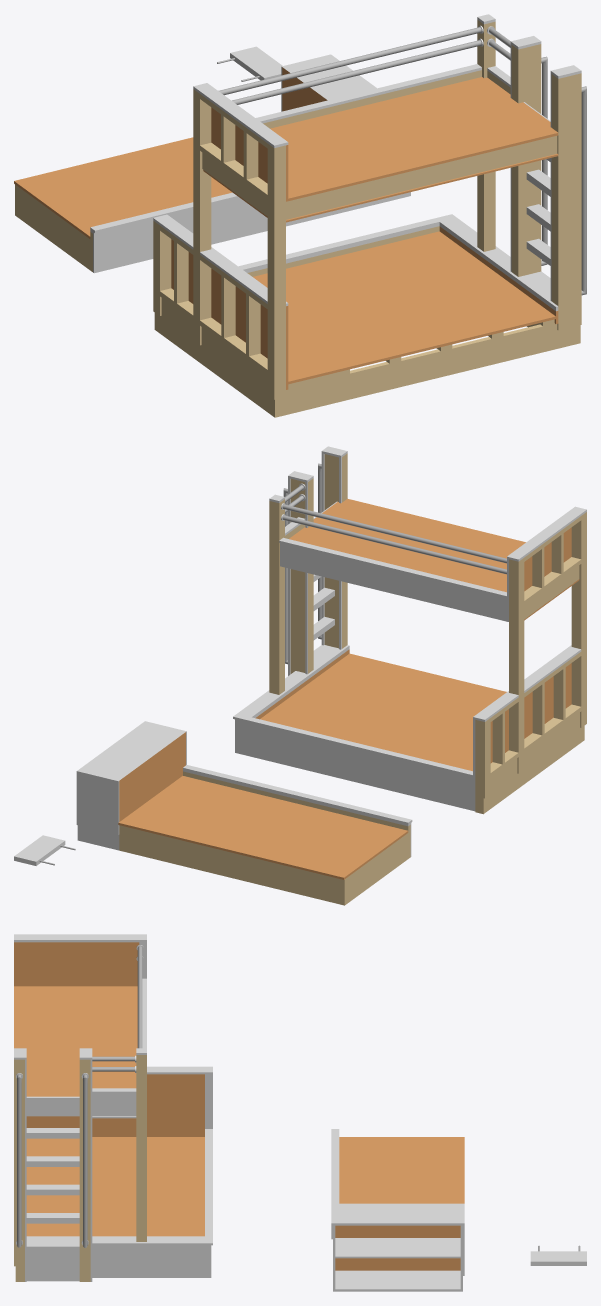
File: project.glb
3 views of the same model, one above another, from view 1: azimuth 30°, elevation 25°; view 2: azimuth 150°, elevation 25°; view 3: azimuth 270°, elevation 25° (orthographic). The views are drawn at different scales.
Visible parts, largest first — view 1: queen-platform, twin-platform-top, bed-platform, queen-rail-side.001, twin-rail-side, leg.004, bed-rail-molding, leg.002, leg.005, ladder-leg.001, leg.006, queen-rail-head.001 (+34 smaller); view 2: queen-platform, bed-platform, twin-platform-top, queen-rail-side-molding, twin-rail-molding, bed-rail-side, leg.005, leg.003, leg.004, cabinet-back, cabinet-top, cabinet-side (+26 smaller); view 3: queen-platform, twin-platform-top, bed-platform, twin-head, queen-head, queen-rail-foot-molding.001, cabinet-back, cabinet-top, cabinet-bottom, cabinet-shelf, leg.003, ladder-leg (+20 smaller).
Boxes of the visible parts, left/top/right/bottom form: queen-platform: left=253, top=231, right=555, bottom=384; twin-platform-top: left=270, top=77, right=558, bottom=200; bed-platform: left=14, top=137, right=232, bottom=238; queen-rail-side.001: left=285, top=323, right=557, bottom=415; twin-rail-side: left=286, top=136, right=557, bottom=219; leg.004: left=267, top=144, right=285, bottom=417; bed-rail-molding: left=93, top=198, right=361, bottom=273; leg.002: left=551, top=74, right=569, bottom=348; leg.005: left=193, top=89, right=211, bottom=363; ladder-leg.001: left=569, top=73, right=581, bottom=345; leg.006: left=511, top=45, right=529, bottom=276; queen-rail-head.001: left=201, top=327, right=269, bottom=413; queen-platform: left=260, top=653, right=506, bottom=771; bed-platform: left=118, top=776, right=408, bottom=879; twin-platform-top: left=289, top=498, right=525, bottom=592; queen-rail-side-molding: left=236, top=720, right=475, bottom=811; twin-rail-molding: left=280, top=543, right=508, bottom=621; bed-rail-side: left=119, top=829, right=340, bottom=904; leg.005: left=509, top=558, right=524, bottom=788; leg.003: left=269, top=499, right=284, bottom=694; leg.004: left=571, top=512, right=586, bottom=743; cabinet-back: left=119, top=732, right=185, bottom=821; cabinet-top: left=78, top=721, right=185, bottom=780; cabinet-side: left=76, top=770, right=119, bottom=834; queen-platform: left=26, top=1137, right=204, bottom=1236; twin-platform-top: left=14, top=986, right=137, bottom=1096; bed-platform: left=339, top=1137, right=464, bottom=1203; twin-head: left=14, top=942, right=139, bottom=986; queen-head: left=26, top=1074, right=204, bottom=1136; queen-rail-foot-molding.001: left=92, top=1246, right=211, bottom=1277; cabinet-back: left=335, top=1225, right=460, bottom=1270; cabinet-top: left=333, top=1203, right=462, bottom=1225; cabinet-bottom: left=333, top=1270, right=462, bottom=1291; cabinet-shelf: left=335, top=1238, right=460, bottom=1258; leg.003: left=136, top=1055, right=146, bottom=1241; ladder-leg: left=79, top=1059, right=90, bottom=1281.
Size of the model in its own units: 2.55 by 2.01 by 4.65.
